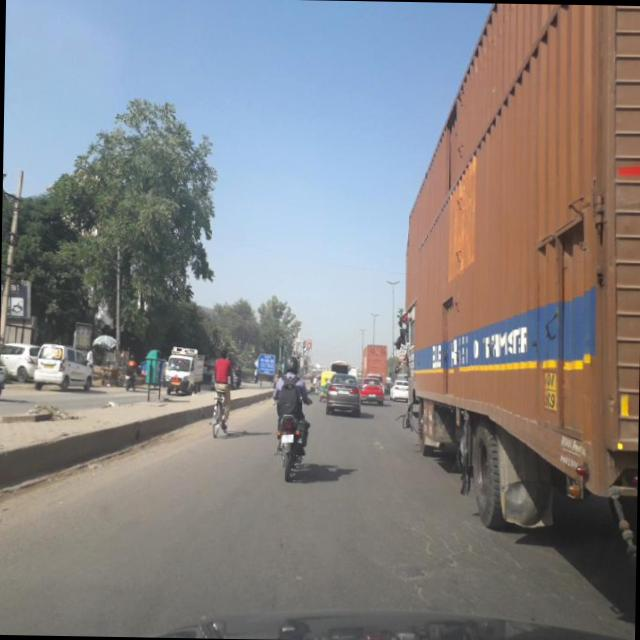crack: (397, 518, 480, 594)
